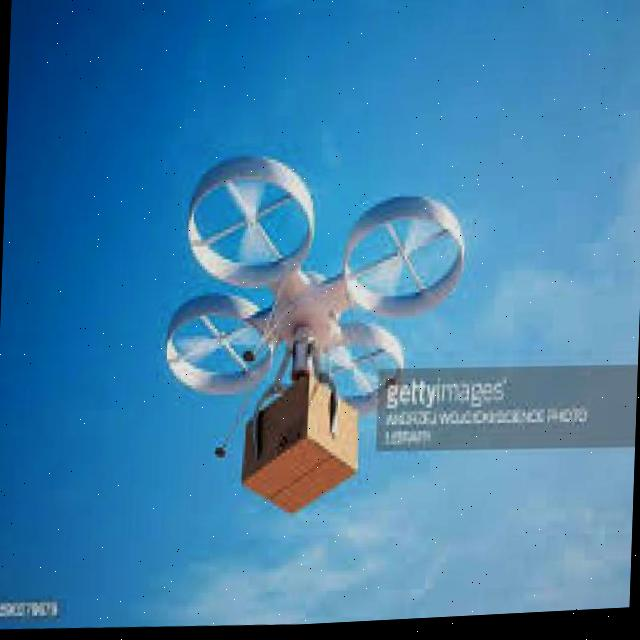drone: (139, 135, 476, 437)
